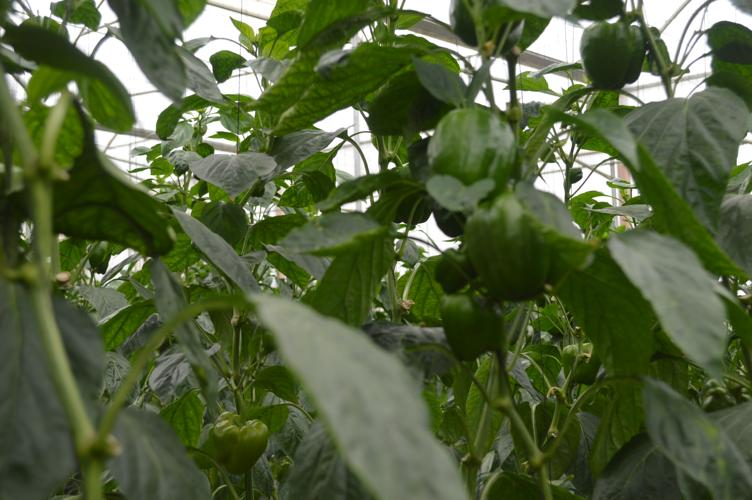BellPepper: (423, 102, 525, 208), (459, 204, 562, 302), (574, 17, 661, 96), (205, 405, 291, 476), (437, 291, 519, 363)
